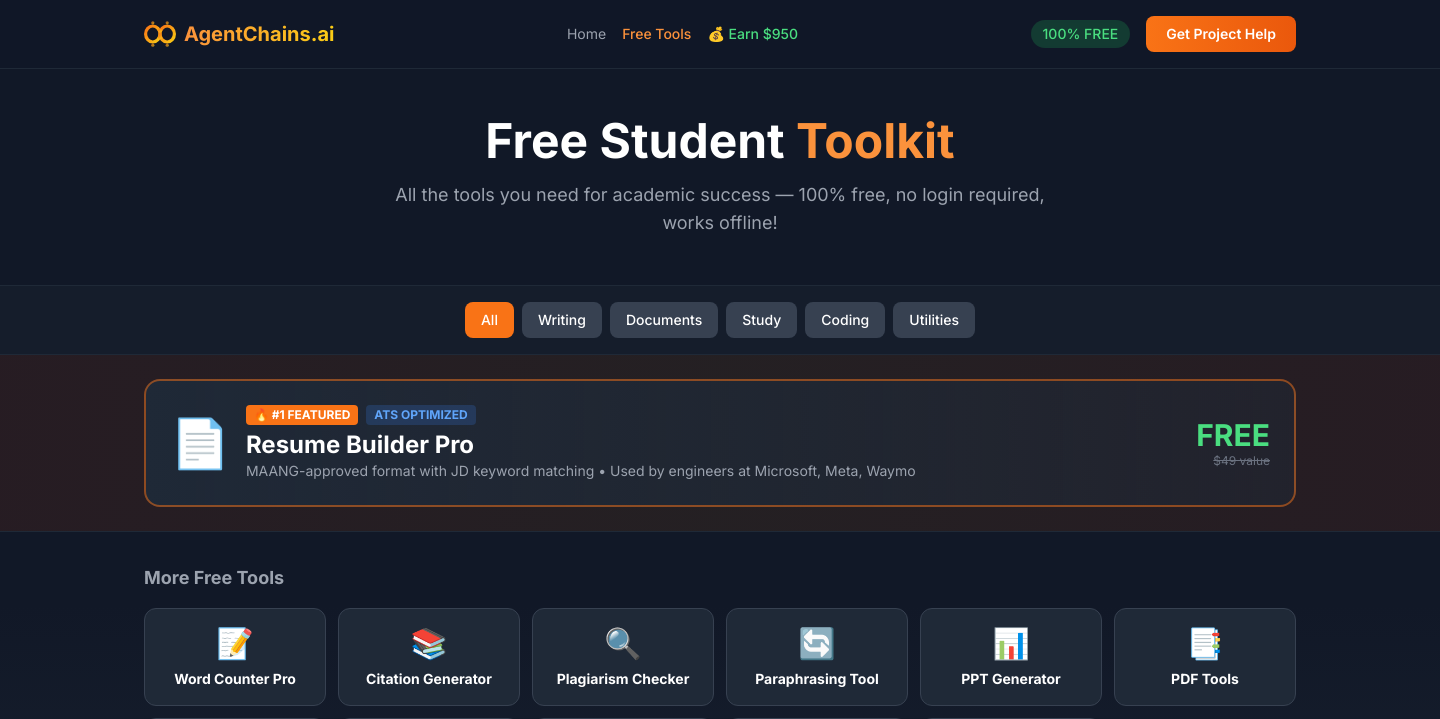
Test: Word Counter Pro › counts words correctly
Click the text "Word Counter Pro". click: (235, 678)
box: [174,670,296,687]
(page scrolled)
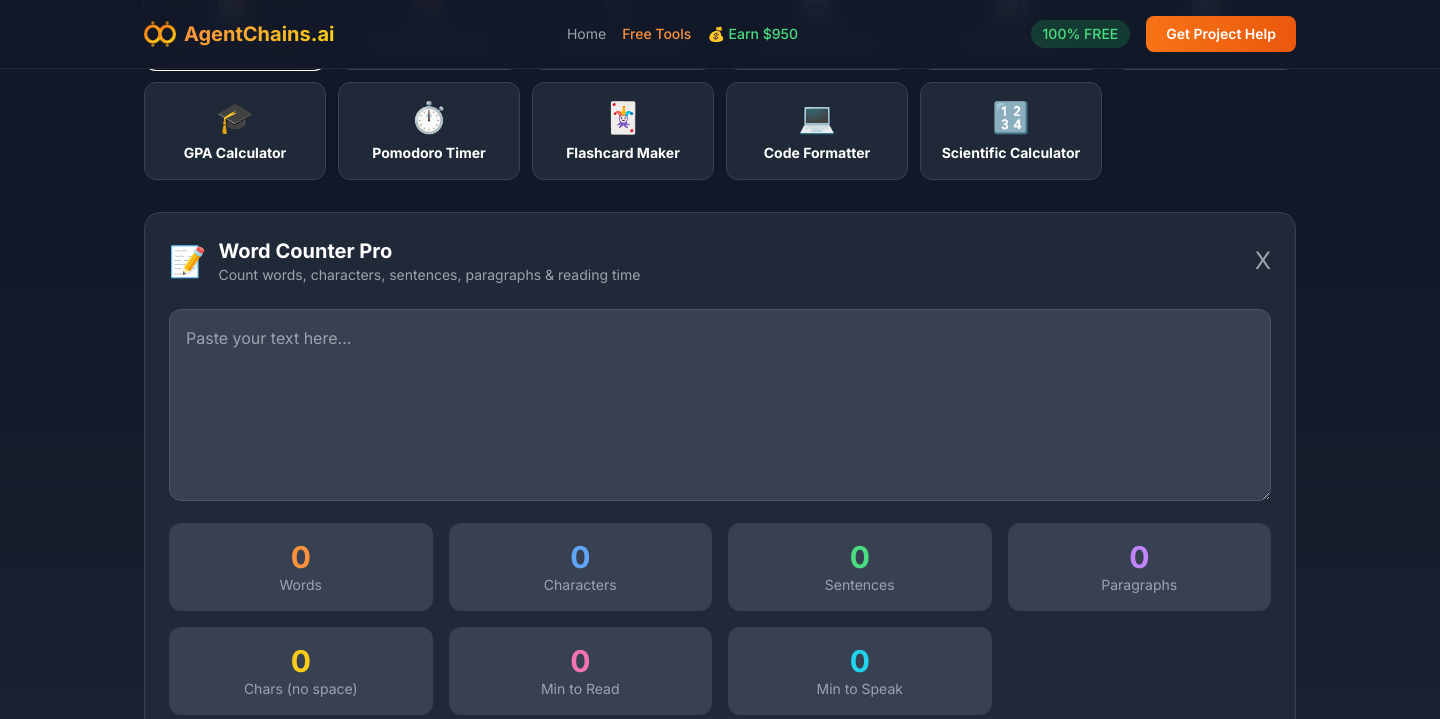
Type "Hello world this is a test" into the text box with placeholder "Paste your text here...". click: (720, 405)
box: [169,309,1271,501]
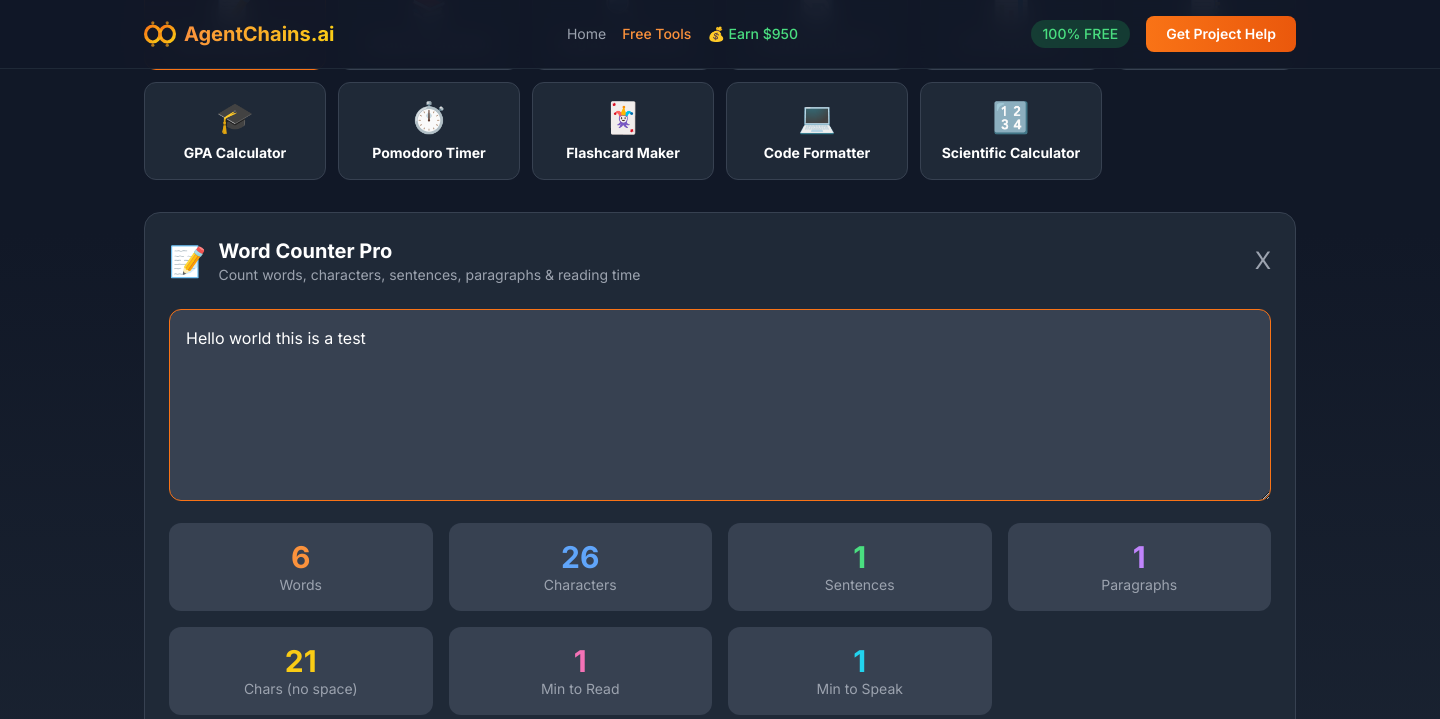
expect the text "6" is shown: met, box [291,539,310,575]
